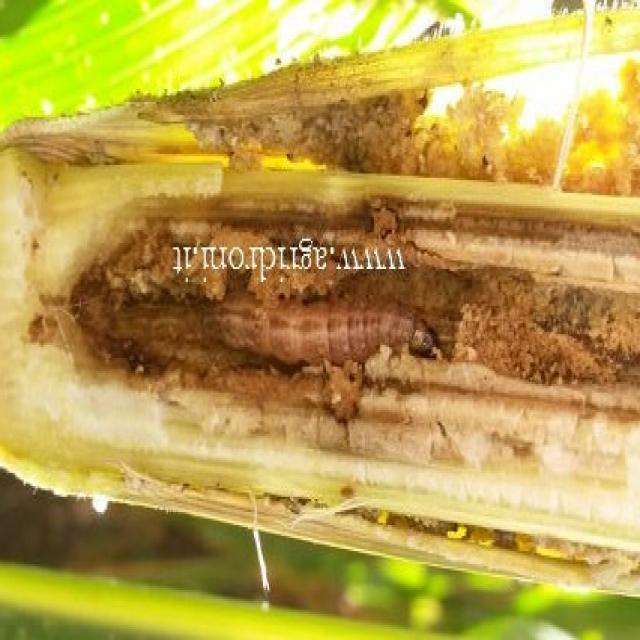cornborer-Larva-: (209, 293, 436, 377)
